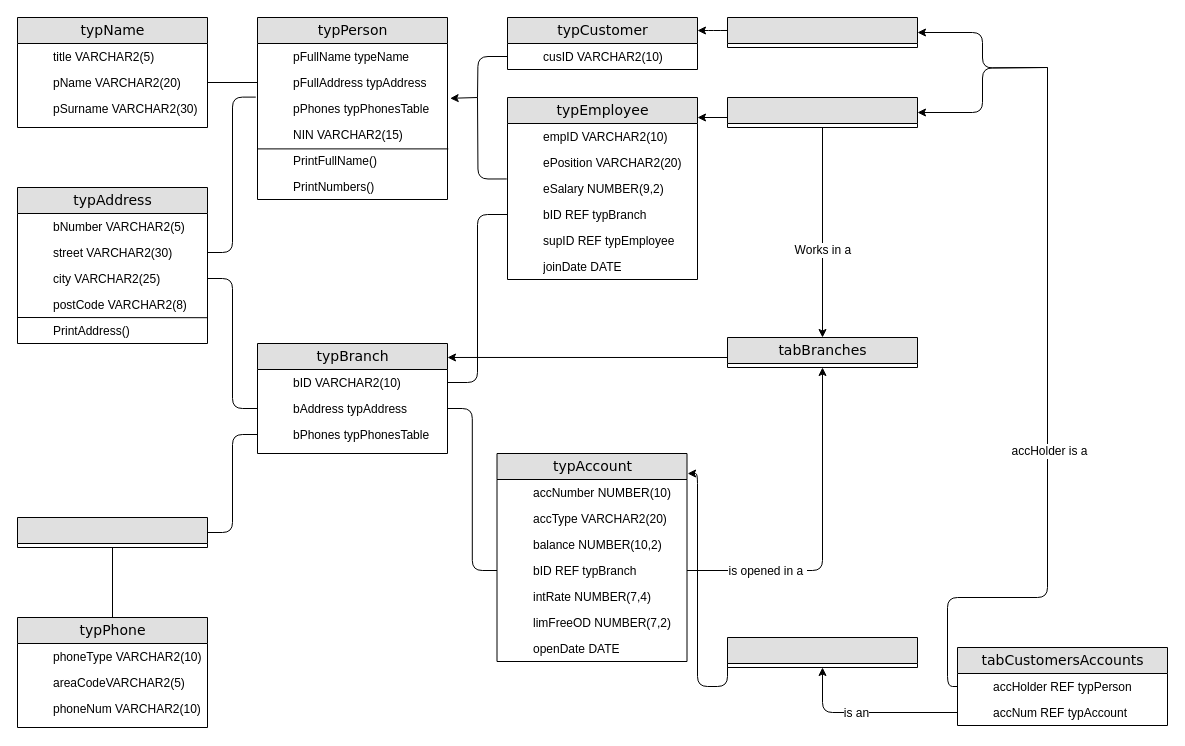
This 1185x746 diagram has some shape labels left out. The centre of each missing label's shape, as x and y in pixels:
"tabAccounts" goes at (822,652).
"tabCustomers" goes at (822,32).
"tabEmployees" goes at (822,112).
"typPhonesTable" goes at (112,532).
